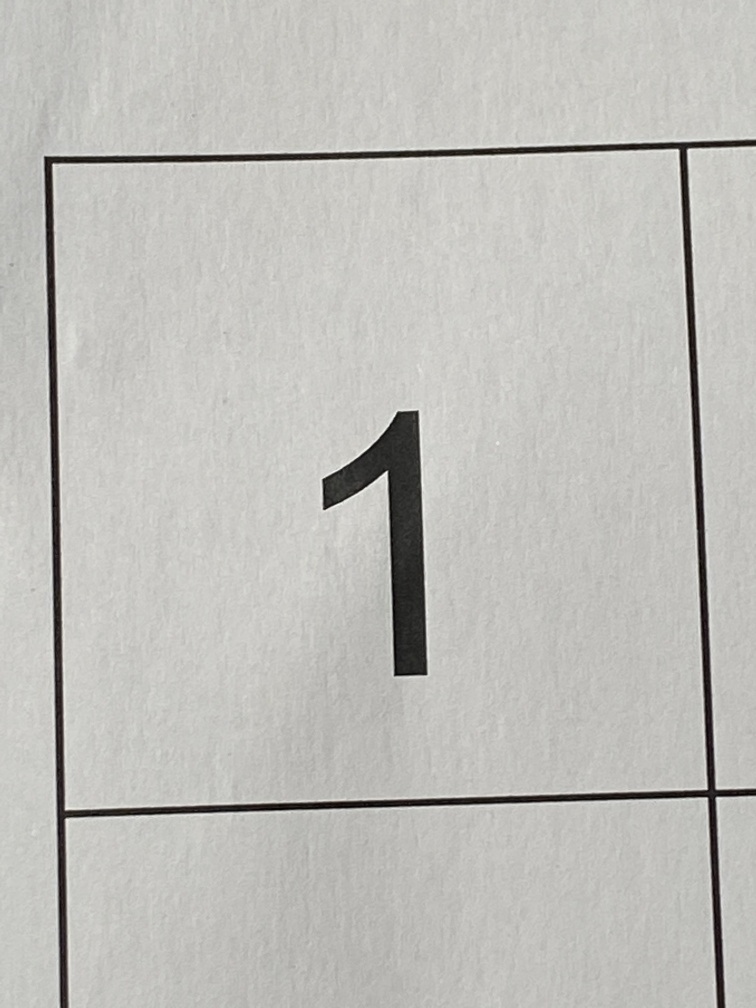one: (289, 360, 513, 742)
